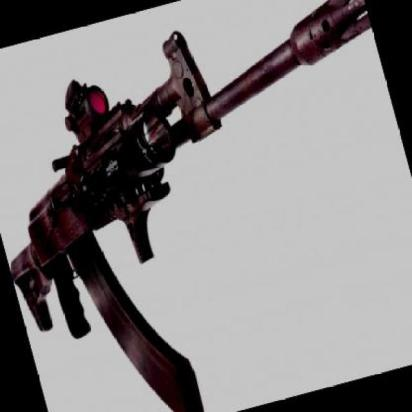Gun: (14, 1, 377, 387)
